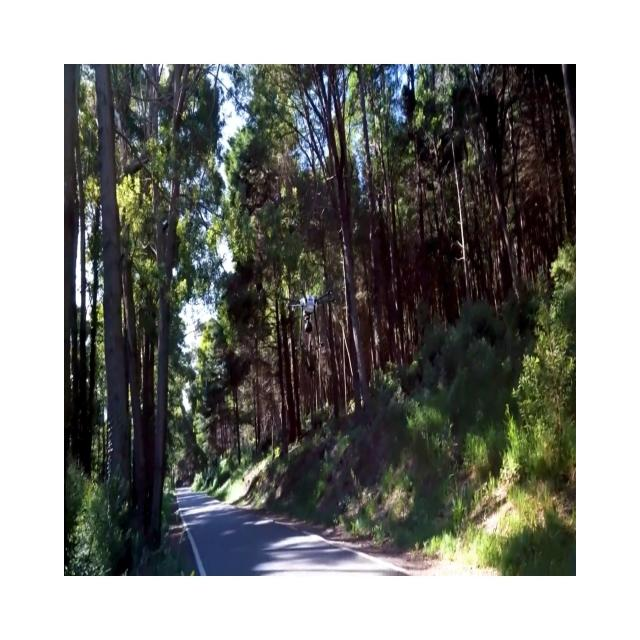drone: (284, 280, 332, 346)
